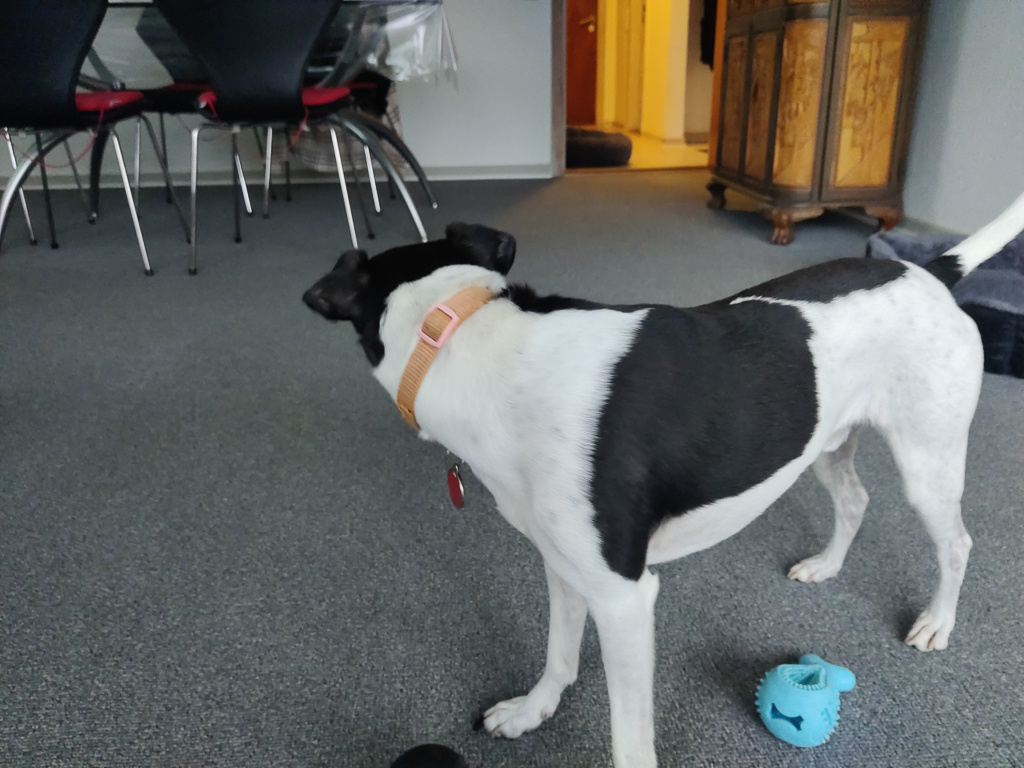Dog: (292, 164, 1024, 768)
